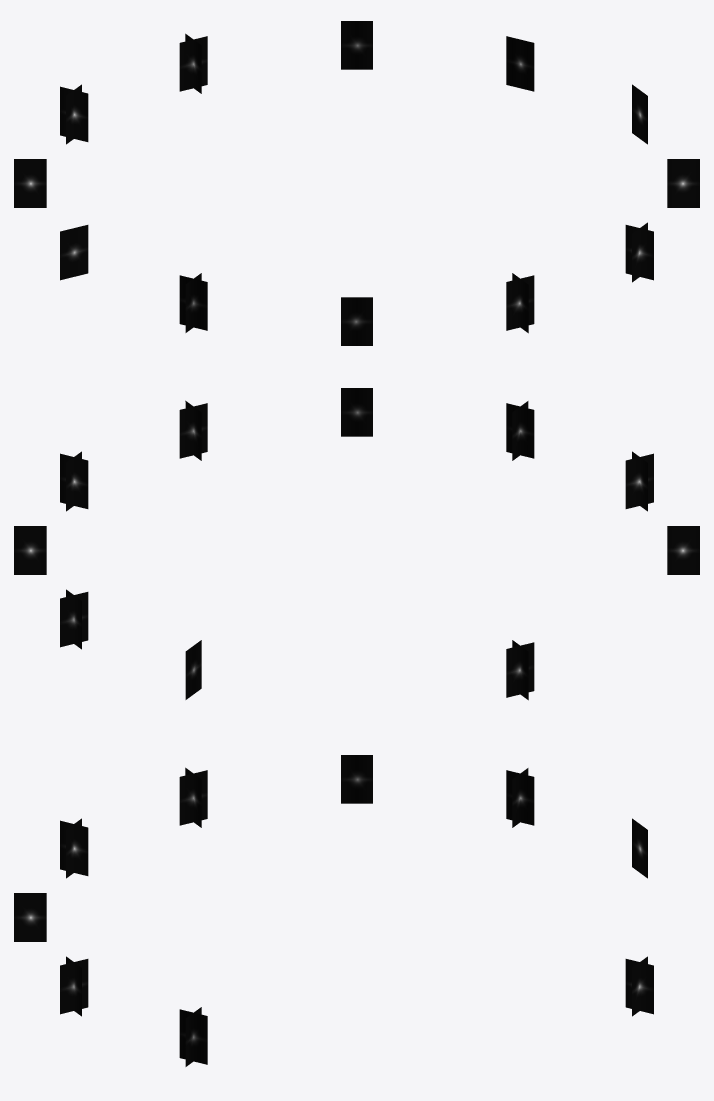
The model's file is 0327_huoyan_kedu.glb.
The picture shows the model from 3 angles, top to bottom: view 1: azimuth 30°, elevation 25°; view 2: azimuth 150°, elevation 25°; view 3: azimuth 270°, elevation 25°; orthographic projection.
Size of the model in its own units: 2.2 by 0.1727 by 2.2.
Materials: 1 (1 with a texture image).
